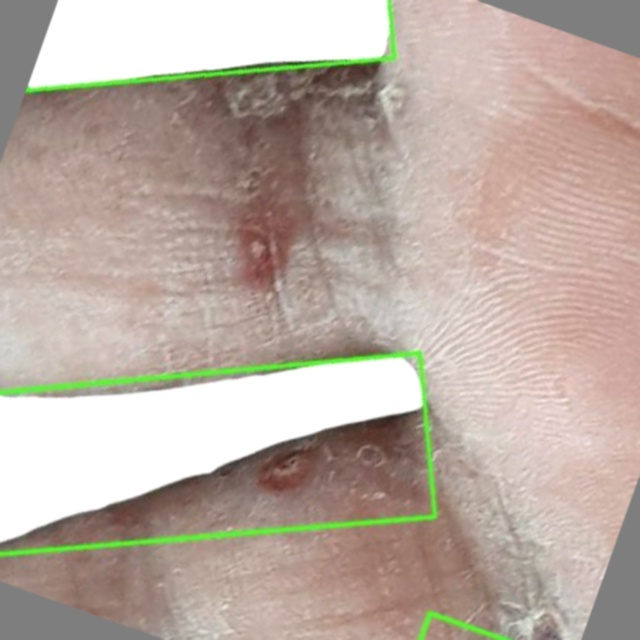Scabies: (0, 353, 443, 574), (27, 0, 395, 89)
